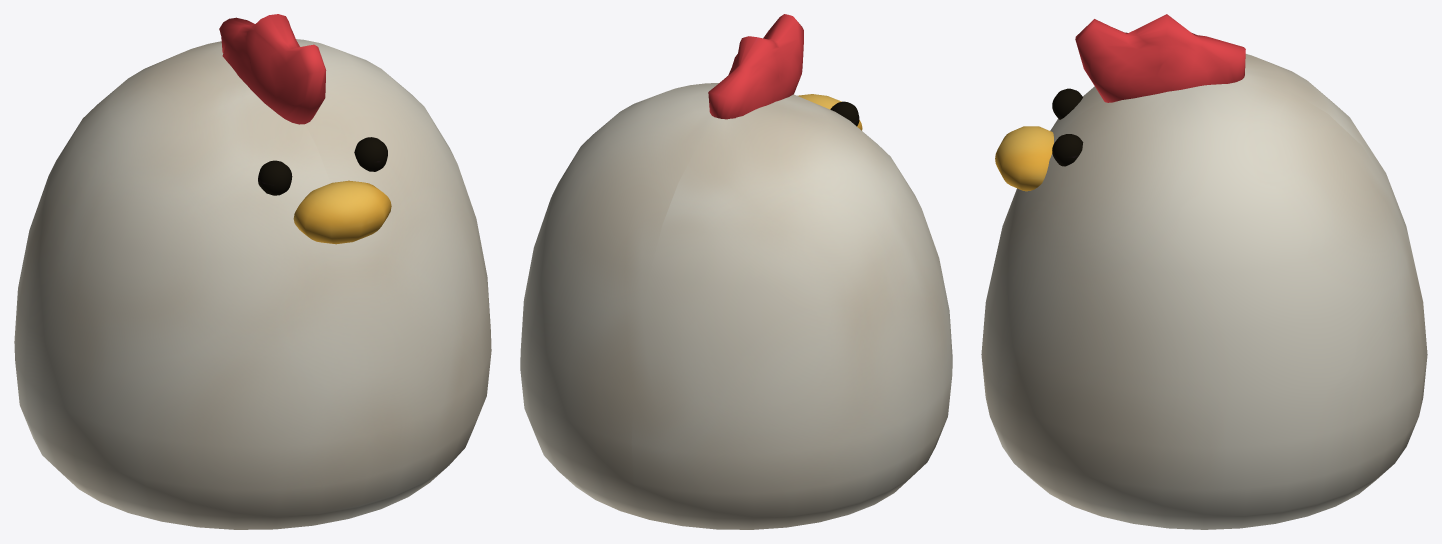
The model's file is chickin.fbx.
The picture shows the model from 3 angles, left to right: view 1: azimuth 30°, elevation 25°; view 2: azimuth 150°, elevation 25°; view 3: azimuth 270°, elevation 25°; orthographic projection. The views are drawn at different scales.
Parts seen in each view (by area): view 1: chickin.001; view 2: chickin.001; view 3: chickin.001.
Part boxes in pixels (x1,y1,x2,y2): chickin.001: (14,14,491,529); chickin.001: (520,14,952,529); chickin.001: (981,14,1427,529).
Size of the model in its own units: 156 by 166 by 150.
1 material, 1 textured.
